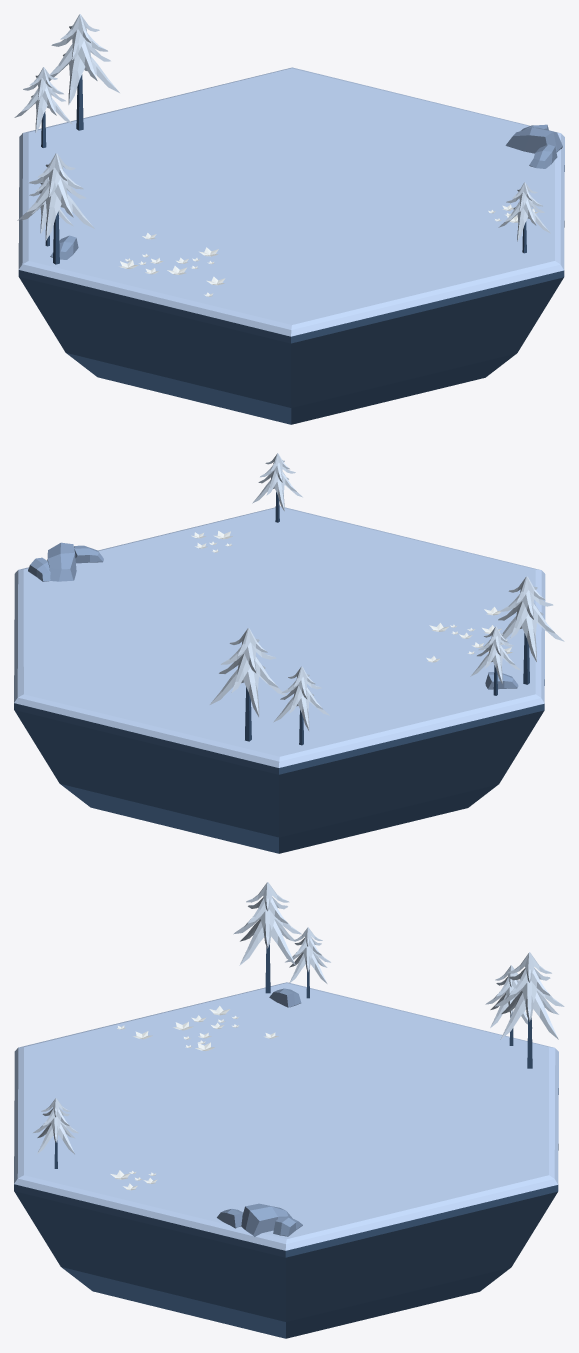
The model's file is Asset_Biome_Snow_03.fbx.
The picture shows the model from 3 angles, top to bottom: view 1: azimuth 30°, elevation 25°; view 2: azimuth 150°, elevation 25°; view 3: azimuth 270°, elevation 25°; orthographic projection. The views are drawn at different scales.
Parts seen in each view (by area): view 1: Asset_Tile_Snow, PolySurface_TreeSnow_05, PolySurface_TreeSnow_013, PolySurface_TreeSnow_04, PolySurface_TreeSnow_014, PolySurface_RockSnow_04; view 2: Asset_Tile_Snow, PolySurface_TreeSnow_05, PolySurface_TreeSnow_013, PolySurface_TreeSnow_04, PolySurface_TreeSnow_08, PolySurface_TreeSnow_014, PolySurface_RockSnow_04; view 3: Asset_Tile_Snow, PolySurface_TreeSnow_05, PolySurface_TreeSnow_013, PolySurface_TreeSnow_014, PolySurface_TreeSnow_08, PolySurface_RockSnow_04, PolySurface_TreeSnow_04.
Part boxes in pixels (x1,y1,x2,y2): Asset_Tile_Snow: (18, 67, 564, 424); PolySurface_TreeSnow_05: (48, 14, 119, 130); PolySurface_TreeSnow_013: (17, 153, 94, 264); PolySurface_TreeSnow_04: (14, 67, 72, 147); PolySurface_TreeSnow_014: (498, 182, 550, 253); PolySurface_RockSnow_04: (505, 127, 562, 153); Asset_Tile_Snow: (14, 506, 545, 853); PolySurface_TreeSnow_05: (209, 628, 286, 741); PolySurface_TreeSnow_013: (498, 576, 564, 684); PolySurface_TreeSnow_04: (273, 666, 329, 745); PolySurface_TreeSnow_08: (470, 626, 520, 695); PolySurface_TreeSnow_014: (252, 453, 302, 522); PolySurface_RockSnow_04: (47, 542, 76, 581); Asset_Tile_Snow: (14, 982, 558, 1338); PolySurface_TreeSnow_05: (495, 952, 564, 1068); PolySurface_TreeSnow_013: (233, 882, 301, 993); PolySurface_TreeSnow_014: (33, 1098, 78, 1168); PolySurface_TreeSnow_08: (285, 927, 330, 998); PolySurface_RockSnow_04: (241, 1203, 292, 1236); PolySurface_TreeSnow_04: (485, 965, 532, 1045).
Size of the model in its own units: 438 by 199 by 382.
